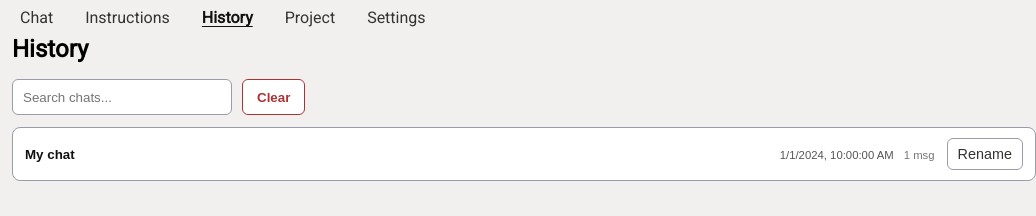
Test case: HistoryPage accessibility › status region announces clear success
Click the button "Clear": {"x": 274, "y": 97} [242, 79, 305, 115]
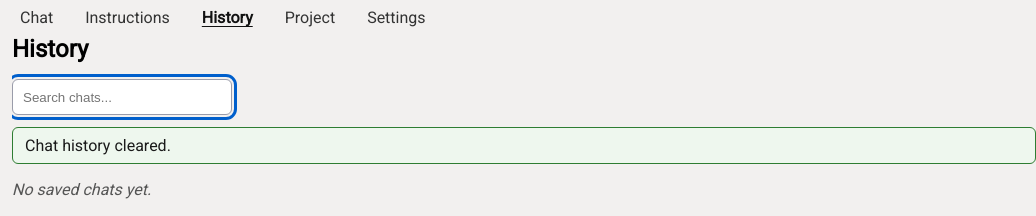
expect the message shows "Chat history cleared": met, box [25, 136, 171, 155]
